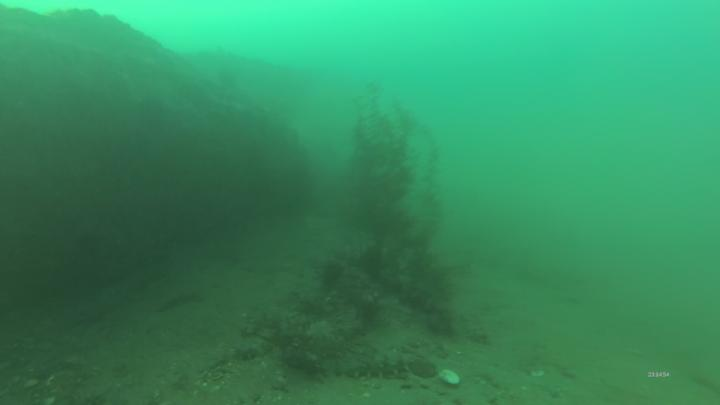holothurian: (322, 347, 420, 382)
scallop: (440, 367, 462, 389)
waterweeds: (346, 95, 457, 317)
